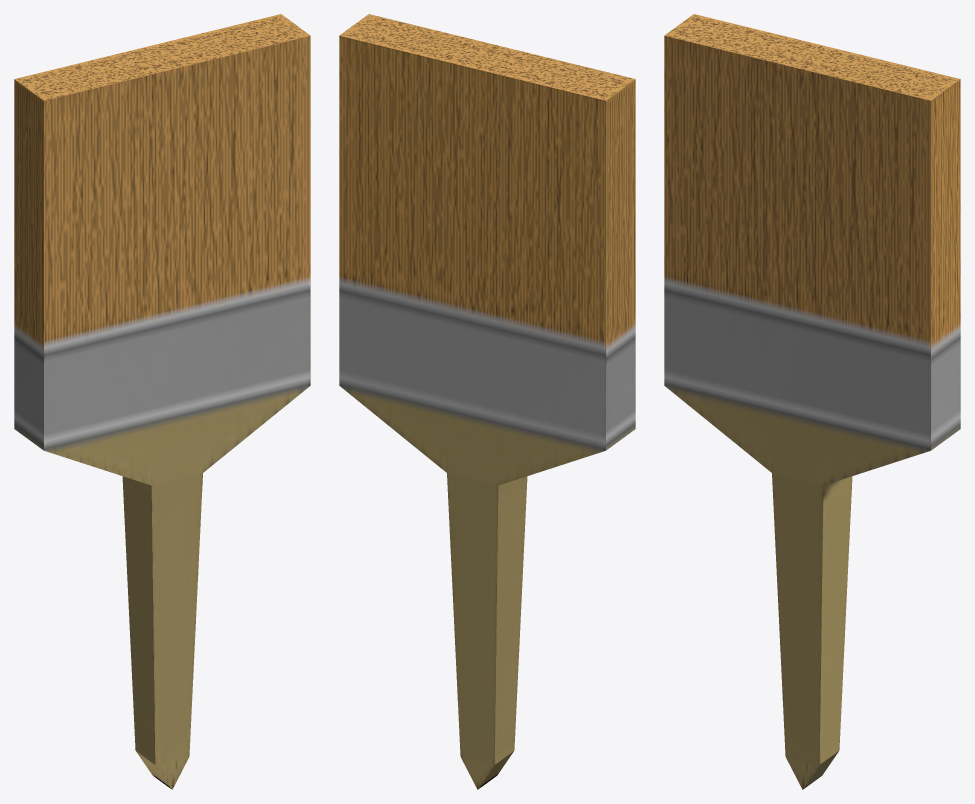
The model's file is Paint_Brush.glb.
3 views of the same model, side by side, from view 1: azimuth 30°, elevation 25°; view 2: azimuth 150°, elevation 25°; view 3: azimuth 330°, elevation 25° (orthographic).
Parts seen in each view (by area): view 1: Paint_Brush.Bake; view 2: Paint_Brush.Bake; view 3: Paint_Brush.Bake.
Boxes of the visible parts, bbox=[...] form: Paint_Brush.Bake: bbox=[14, 14, 310, 789]; Paint_Brush.Bake: bbox=[339, 14, 635, 789]; Paint_Brush.Bake: bbox=[664, 14, 960, 789].
Bounding box in the file's own units: 0.4827 × 1.25 × 0.093.
Materials: 1 (1 with a texture image).
